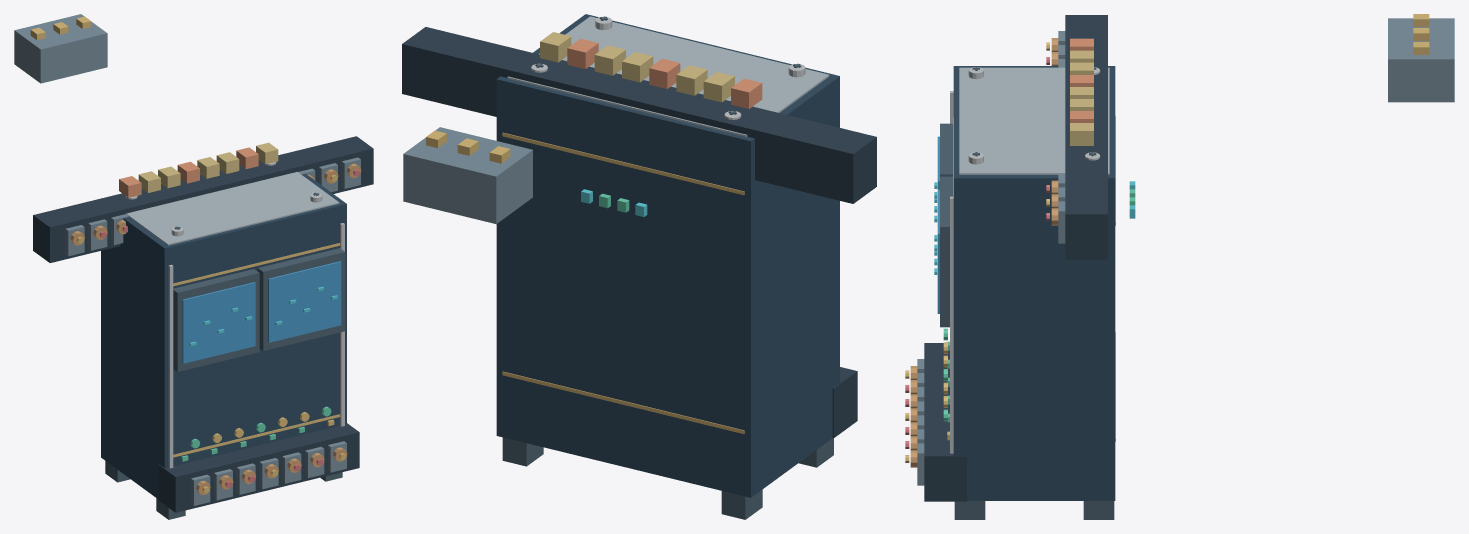
File: 52_L78_AcceleratedBiasStressTestSource.glb
3 renders of one model, left to right at view 1: azimuth 30°, elevation 25°; view 2: azimuth 150°, elevation 25°; view 3: azimuth 270°, elevation 25°, orthographic. The views are drawn at different scales.
Visible parts, largest first — view 1: AcceleratedBiasStressTestSource_Node_0000, AcceleratedBiasStressTestSource_Node_0007, AcceleratedBiasStressTestSource_Node_0049, AcceleratedBiasStressTestSource_Node_0077, AcceleratedBiasStressTestSource_Node_0025, AcceleratedBiasStressTestSource_Node_0032, AcceleratedBiasStressTestSource_Node_0135, AcceleratedBiasStressTestSource_Node_0102, AcceleratedBiasStressTestSource_Node_0024, AcceleratedBiasStressTestSource_Node_0031, AcceleratedBiasStressTestSource_Node_0005, AcceleratedBiasStressTestSource_Node_0006 (+10 smaller); view 2: AcceleratedBiasStressTestSource_Node_0000, AcceleratedBiasStressTestSource_Node_0102, AcceleratedBiasStressTestSource_Node_0077, AcceleratedBiasStressTestSource_Node_0135, AcceleratedBiasStressTestSource_Node_0007, AcceleratedBiasStressTestSource_Node_0049, AcceleratedBiasStressTestSource_Node_0020, AcceleratedBiasStressTestSource_Node_0022, AcceleratedBiasStressTestSource_Node_0045, AcceleratedBiasStressTestSource_Node_0047, AcceleratedBiasStressTestSource_Node_0127, AcceleratedBiasStressTestSource_Node_0131 (+6 smaller); view 3: AcceleratedBiasStressTestSource_Node_0000, AcceleratedBiasStressTestSource_Node_0007, AcceleratedBiasStressTestSource_Node_0102, AcceleratedBiasStressTestSource_Node_0135, AcceleratedBiasStressTestSource_Node_0049, AcceleratedBiasStressTestSource_Node_0077, AcceleratedBiasStressTestSource_Node_0031, AcceleratedBiasStressTestSource_Node_0006, AcceleratedBiasStressTestSource_Node_0024.
Part boxes in pixels (x1,y1,x2,y2): AcceleratedBiasStressTestSource_Node_0000: (101,174,346,499); AcceleratedBiasStressTestSource_Node_0007: (126,172,339,245); AcceleratedBiasStressTestSource_Node_0049: (158,423,359,512); AcceleratedBiasStressTestSource_Node_0077: (33,165,256,262); AcceleratedBiasStressTestSource_Node_0025: (182,282,255,363); AcceleratedBiasStressTestSource_Node_0032: (268,261,341,342); AcceleratedBiasStressTestSource_Node_0135: (14,14,107,83); AcceleratedBiasStressTestSource_Node_0102: (156,136,373,200); AcceleratedBiasStressTestSource_Node_0024: (173,269,259,371); AcceleratedBiasStressTestSource_Node_0031: (257,248,345,351); AcceleratedBiasStressTestSource_Node_0005: (168,264,173,468); AcceleratedBiasStressTestSource_Node_0006: (340,223,344,426); AcceleratedBiasStressTestSource_Node_0000: (496,14,839,497); AcceleratedBiasStressTestSource_Node_0102: (402,27,709,120); AcceleratedBiasStressTestSource_Node_0077: (565,74,876,203); AcceleratedBiasStressTestSource_Node_0135: (403,127,532,224); AcceleratedBiasStressTestSource_Node_0007: (507,16,829,136); AcceleratedBiasStressTestSource_Node_0049: (832,367,857,438); AcceleratedBiasStressTestSource_Node_0020: (502,371,744,433); AcceleratedBiasStressTestSource_Node_0022: (502,132,744,195); AcceleratedBiasStressTestSource_Node_0045: (721,489,762,519); AcceleratedBiasStressTestSource_Node_0047: (502,437,543,466); AcceleratedBiasStressTestSource_Node_0127: (731,78,762,108); AcceleratedBiasStressTestSource_Node_0131: (622,52,653,82); AcceleratedBiasStressTestSource_Node_0000: (953,66,1115,500); AcceleratedBiasStressTestSource_Node_0007: (959,67,1109,174); AcceleratedBiasStressTestSource_Node_0102: (1065,87,1107,259); AcceleratedBiasStressTestSource_Node_0135: (1388,18,1454,102); AcceleratedBiasStressTestSource_Node_0049: (924,343,966,501); AcceleratedBiasStressTestSource_Node_0077: (1065,15,1107,142); AcceleratedBiasStressTestSource_Node_0031: (940,176,952,327); AcceleratedBiasStressTestSource_Node_0006: (950,196,953,453); AcceleratedBiasStressTestSource_Node_0024: (940,123,952,176).
Size of the model in its own units: 1.99 by 2 by 2.31.
